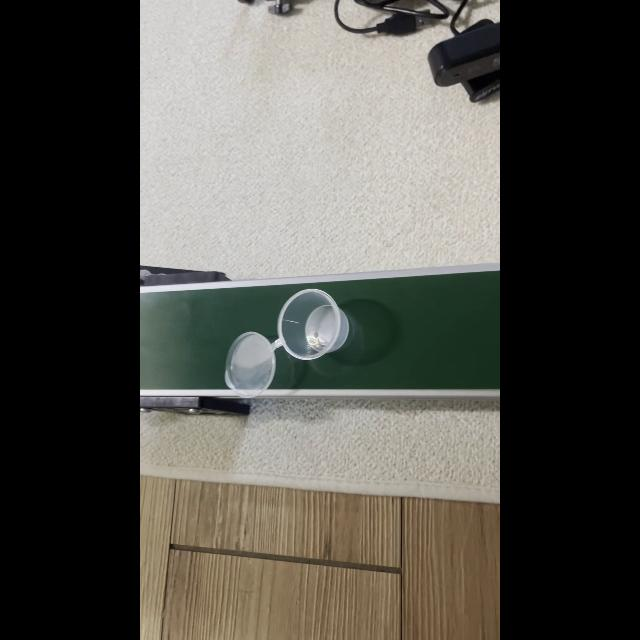clean: (280, 294, 344, 358), (220, 340, 276, 396)
